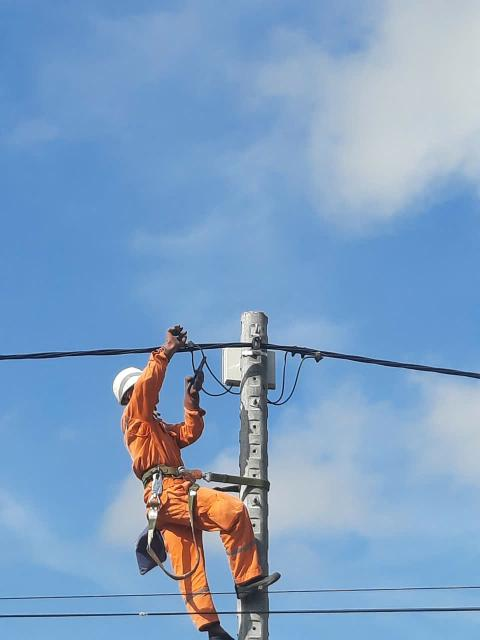gloves: (176, 366, 205, 405), (156, 324, 189, 355)
harness: (135, 458, 227, 491)
helmet: (98, 366, 161, 399)
